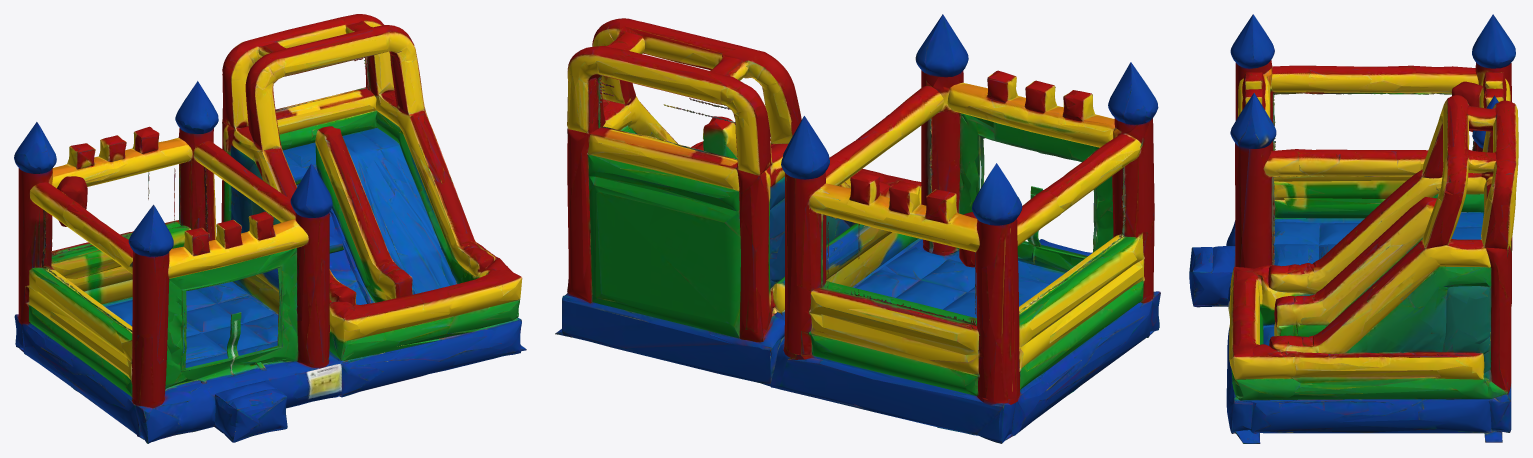
The picture shows the model from 3 angles, left to right: view 1: azimuth 30°, elevation 25°; view 2: azimuth 150°, elevation 25°; view 3: azimuth 270°, elevation 25°; orthographic projection. The views are drawn at different scales.
Bounding box in the file's own units: 1.9 × 1.21 × 1.33.
1 material, 1 textured.
